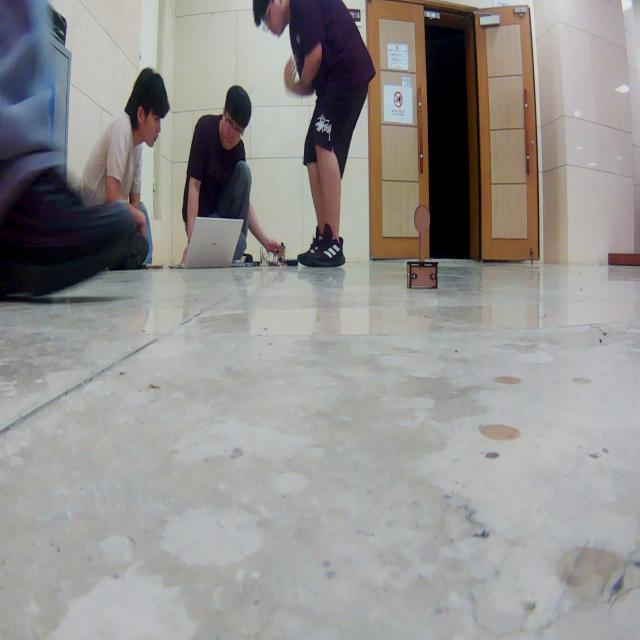target: (404, 203, 438, 289)
